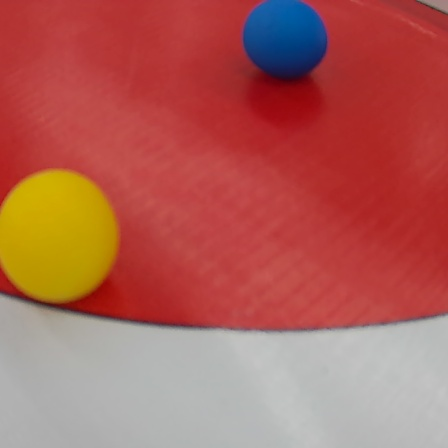blue: (241, 1, 329, 79)
red_base: (0, 0, 446, 331)
yellow: (0, 169, 120, 303)
